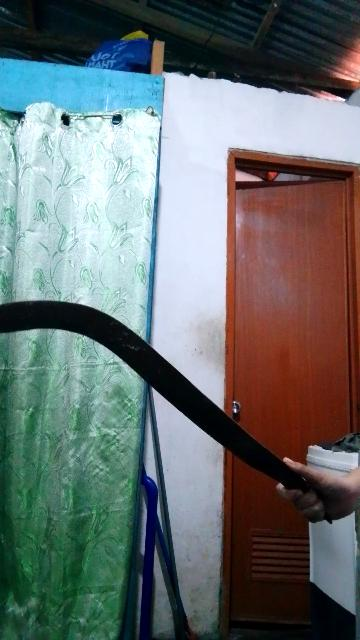long knife: (1, 292, 337, 532)
